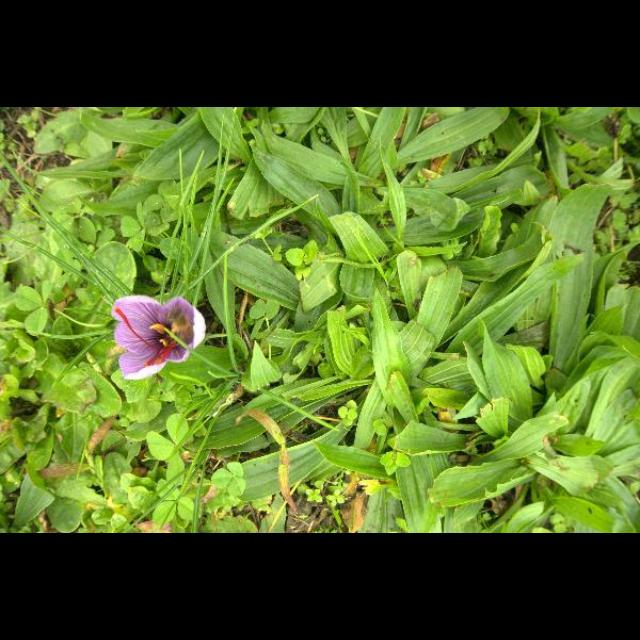flower: (112, 296, 206, 380)
